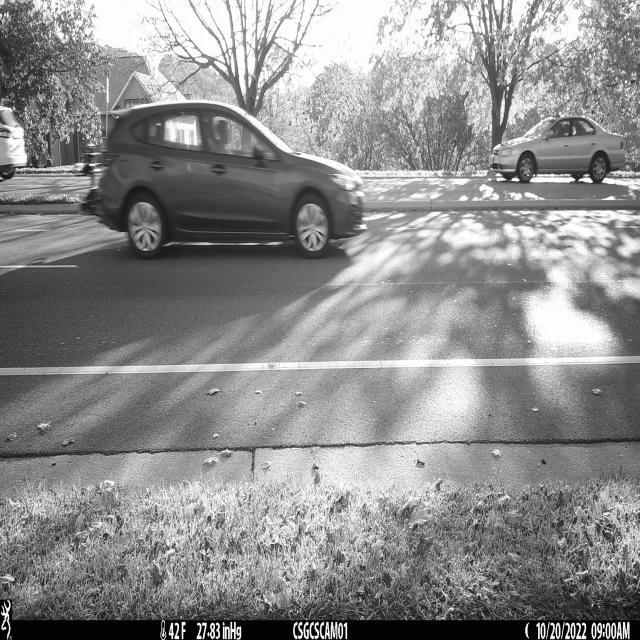Hatchback: (85, 100, 367, 259)
Sedan: (490, 115, 625, 184)
